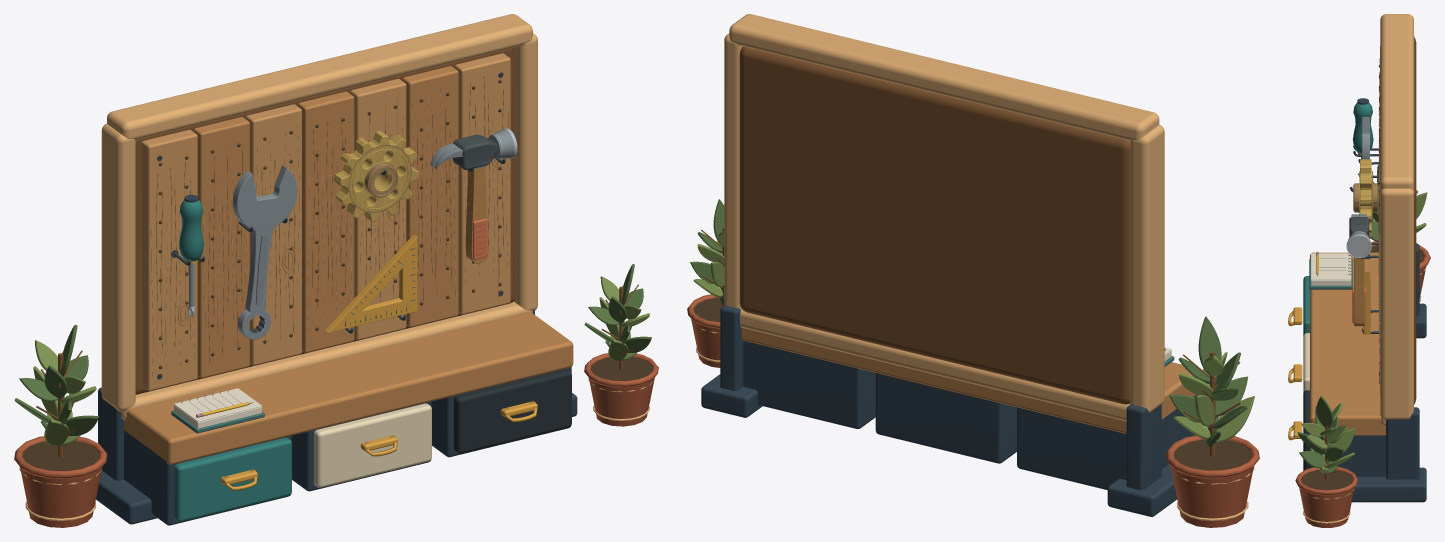
The model's file is workshop-rack-hammer-triangle-hooks.glb.
3 renders of one model, left to right at view 1: azimuth 30°, elevation 25°; view 2: azimuth 150°, elevation 25°; view 3: azimuth 270°, elevation 25°, orthographic. The views are drawn at different scales.
Visible parts, largest first — view 1: timber, plank, Refined_Frame_Top, navy, Refined_Frame_Side_-069, Refined_Grey_Drawer, cream, teal, Refined_Frame_Side_069, grain, Refined_Frame_Bottom, brass_2 (+13 smaller); view 2: darkWood, navy, Refined_Frame_Top, Refined_Frame_Side_-069, Refined_Frame_Bottom, timber, pot, Refined_Frame_Side_069, soil, pot_1, Leaf 8, Leaf 1; view 3: timber, Refined_Frame_Side_069, navy, Refined_Frame_Top, pot_1, brass_2, darkWood, Notebook_element_3, soil_1, Wood_Handle, Refined_Original_Yellow_Handles, Teal_Handle (+20 smaller).
Boxes of the visible parts, <box> form: timber: <box>124,66,573,464</box>; plank: <box>141,53,510,390</box>; Refined_Frame_Top: <box>107,14,532,139</box>; navy: <box>96,311,577,525</box>; Refined_Frame_Side_-069: <box>101,123,135,411</box>; Refined_Grey_Drawer: <box>453,369,571,453</box>; cream: <box>314,403,431,487</box>; teal: <box>174,437,291,521</box>; Refined_Frame_Side_069: <box>513,33,537,311</box>; grain: <box>156,76,503,363</box>; Refined_Frame_Bottom: <box>121,301,532,419</box>; brass_2: <box>333,131,419,221</box>; darkWood: <box>739,46,1130,404</box>; navy: <box>701,305,1197,516</box>; Refined_Frame_Top: <box>729,14,1159,140</box>; Refined_Frame_Side_-069: <box>1130,125,1164,412</box>; Refined_Frame_Bottom: <box>740,309,1130,421</box>; timber: <box>741,327,1195,433</box>; pot: <box>1165,435,1259,527</box>; Refined_Frame_Side_069: <box>724,33,742,309</box>; soil: <box>1173,439,1251,470</box>; pot_1: <box>687,294,720,367</box>; Leaf 8: <box>1198,316,1221,376</box>; Leaf 1: <box>1215,396,1254,442</box>; timber: <box>1310,68,1385,435</box>; Refined_Frame_Side_069: <box>1380,188,1413,420</box>; navy: <box>1313,243,1426,502</box>; Refined_Frame_Top: <box>1380,14,1413,189</box>; pot_1: <box>1295,466,1358,527</box>; brass_2: <box>1353,159,1378,236</box>; darkWood: <box>1414,37,1416,404</box>; Notebook_element_3: <box>1311,253,1351,280</box>; soil_1: <box>1301,470,1352,489</box>; Wood_Handle: <box>1354,257,1364,326</box>; Refined_Original_Yellow_Handles: <box>1288,307,1302,440</box>; Teal_Handle: <box>1352,102,1373,153</box>.
Size of the model in its own units: 2.04 by 1.25 by 0.5082.
56 materials, 1 textured.
